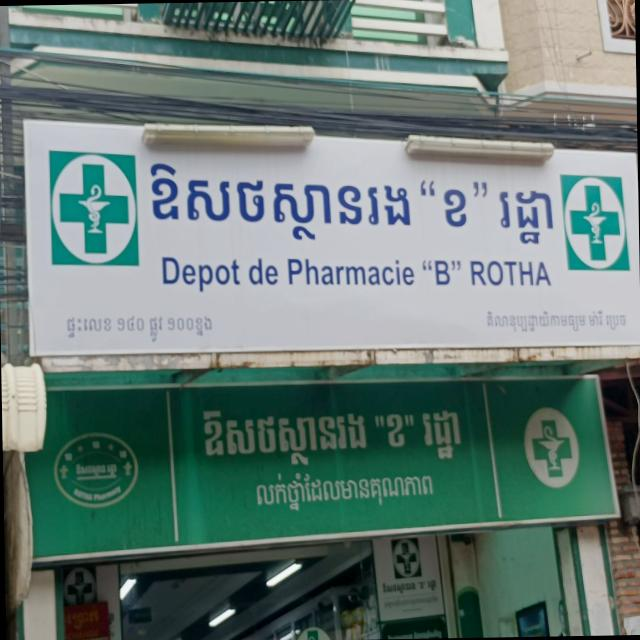2: (146, 155, 563, 245), (194, 397, 473, 478), (483, 306, 630, 336)
4: (60, 309, 214, 343)
Yolov11kh: (250, 460, 439, 517)
